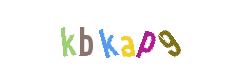9: (106, 0, 186, 80)
A: (88, 0, 168, 80)
B: (67, 0, 147, 80)
K: (44, 0, 124, 80), (74, 0, 154, 80)
P: (89, 0, 169, 80)
